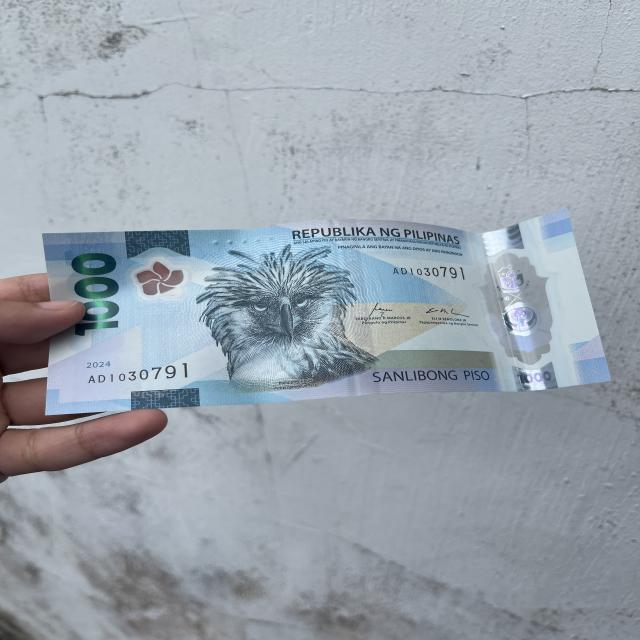clear_window: (476, 251, 562, 366)
eagle: (194, 242, 373, 393)
sampaguita: (125, 252, 198, 321)
security_thread: (331, 219, 379, 395)
serial_number: (75, 360, 201, 390), (386, 262, 474, 287)
value: (63, 241, 130, 342)
value_watermark: (512, 366, 557, 389)
